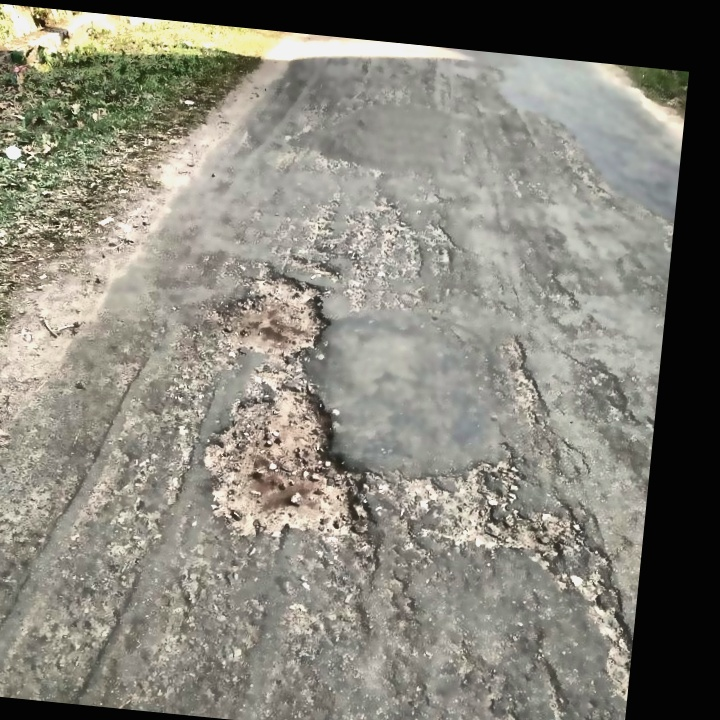pothole: (194, 372, 379, 547), (417, 457, 591, 563), (215, 260, 336, 359)
